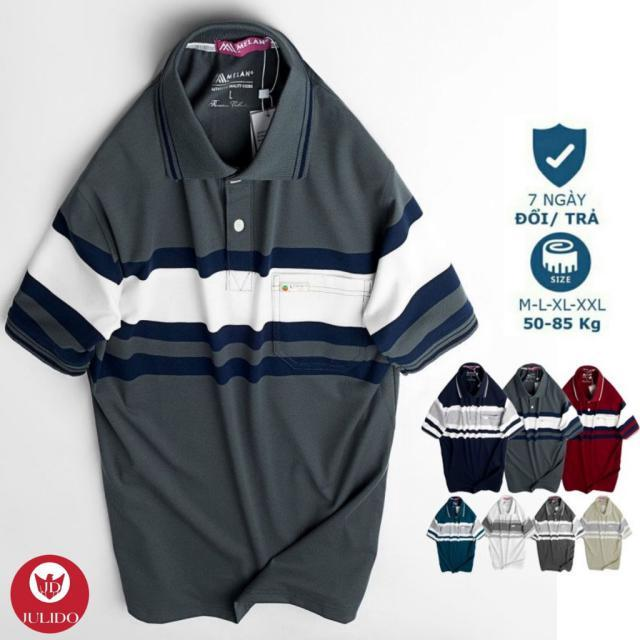Shirt: (8, 18, 481, 624)
